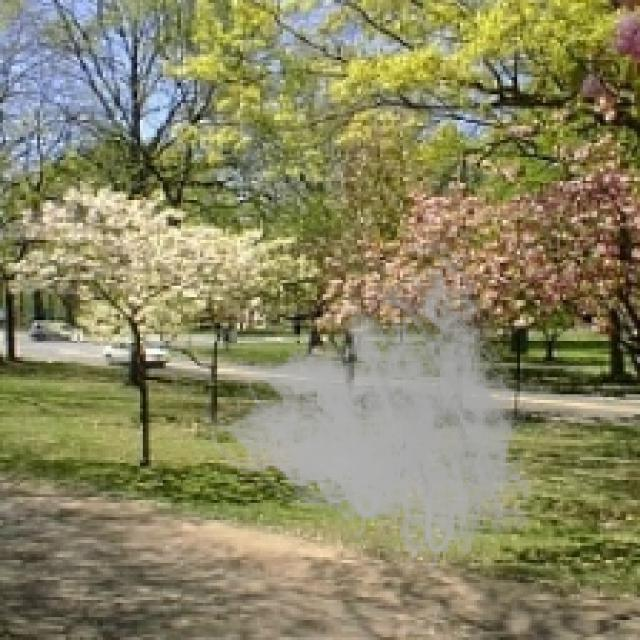Smoke: (199, 234, 552, 586)
